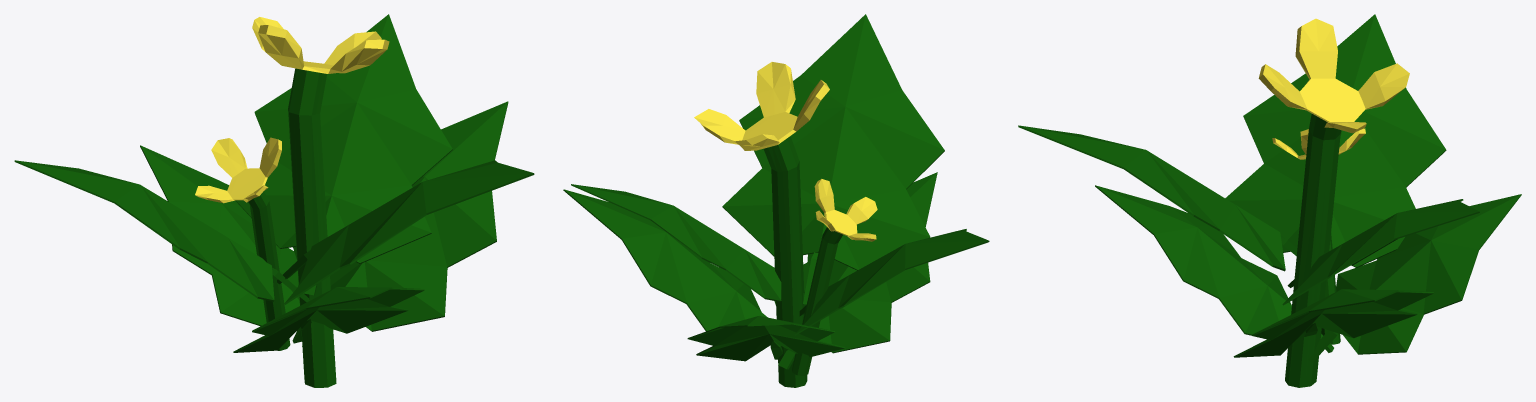
File: WatermelonPlant_Stage01.obj
3 renders of one model, left to right at view 1: azimuth 30°, elevation 25°; view 2: azimuth 150°, elevation 25°; view 3: azimuth 270°, elevation 25°, orthographic. The views are drawn at different scales.
Visible parts, largest first — view 1: WatermelonPlant_Stage01_Cylinder.025; view 2: WatermelonPlant_Stage01_Cylinder.025; view 3: WatermelonPlant_Stage01_Cylinder.025.
Boxes of the visible parts, box(x1,y1,x2,y2) form: WatermelonPlant_Stage01_Cylinder.025: box(14, 14, 534, 387); WatermelonPlant_Stage01_Cylinder.025: box(563, 14, 989, 387); WatermelonPlant_Stage01_Cylinder.025: box(1018, 14, 1521, 387).
Size of the model in its own units: 2.16 by 1.51 by 2.01.
